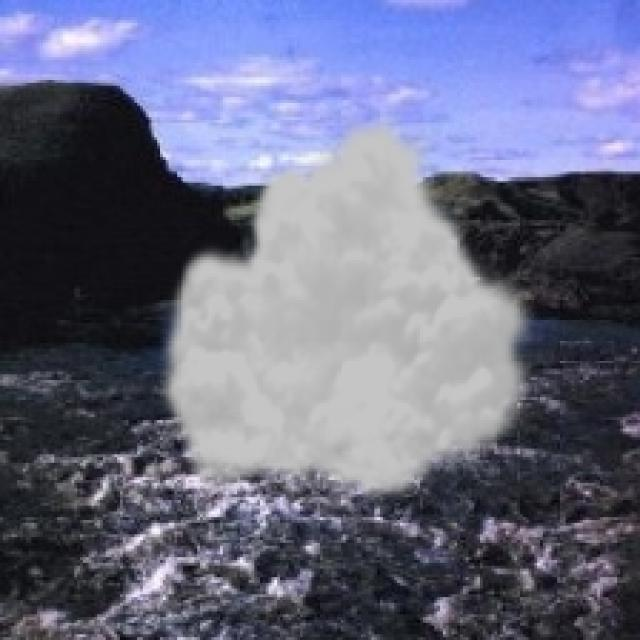Smoke: (154, 108, 543, 503)
